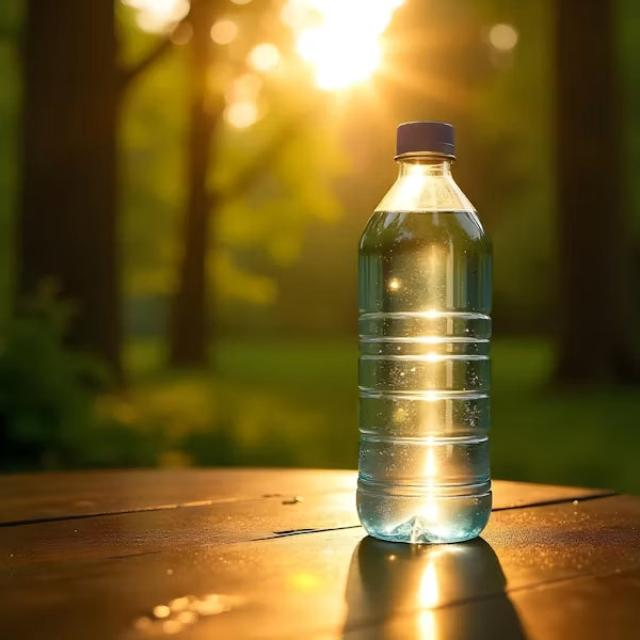Bottle: (358, 122, 491, 542)
